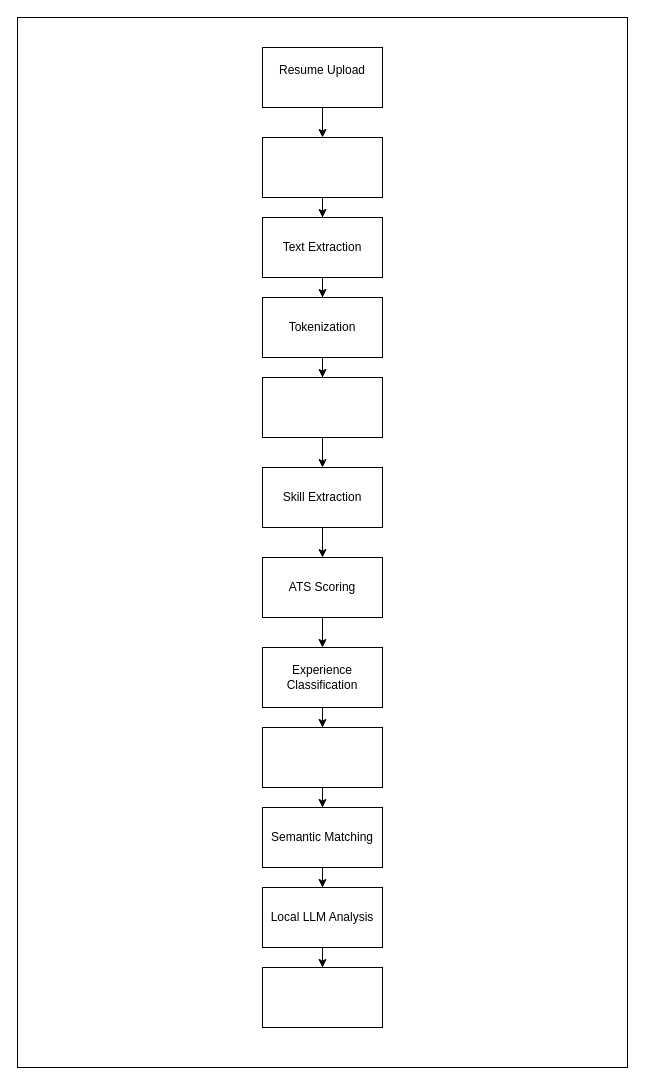
The diagram is 645 pixels wide and 1085 high, and some of its shapes have lost their labels. Here are the shapes that lost their labels. From the top down, the box of each, then its label:
(262, 136, 382, 198): PDF Validation
(262, 376, 382, 438): Entity Extraction
(262, 726, 382, 788): Job Matching
(262, 966, 382, 1028): Results Dashboard
